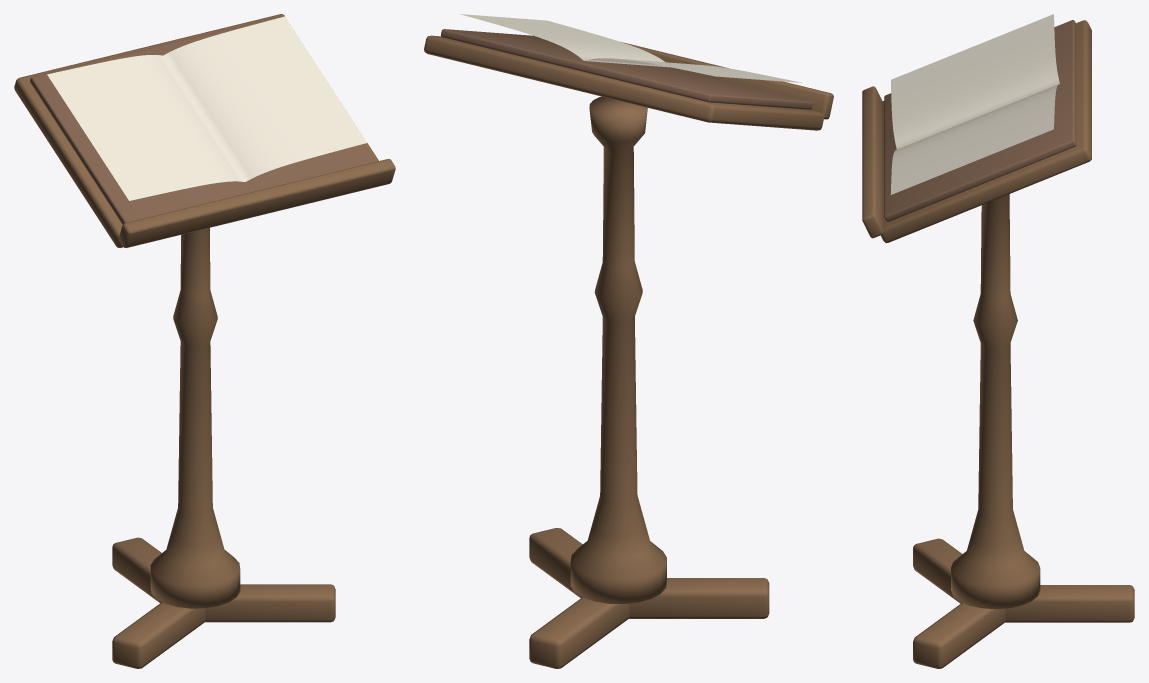
The model's file is ledger_stand.glb.
3 views of the same model, side by side, from view 1: azimuth 30°, elevation 25°; view 2: azimuth 150°, elevation 25°; view 3: azimuth 270°, elevation 25° (orthographic). The views are drawn at different scales.
Visible parts, largest first — view 1: pages, column, boards, ledge, foot2, desk, foot1, foot0; view 2: column, desk, boards, foot1, pages, foot0, foot2, ledge; view 3: pages, column, boards, desk, foot0, foot2, ledge, foot1.
Boxes of the visible parts, left/top/right/bottom form: pages: left=47, top=16, right=366, bottom=200; column: left=150, top=228, right=240, bottom=608; boards: left=30, top=16, right=375, bottom=224; ledge: left=119, top=159, right=395, bottom=247; foot2: left=205, top=584, right=335, bottom=622; desk: left=14, top=14, right=378, bottom=247; foot1: left=112, top=602, right=205, bottom=668; foot0: left=112, top=537, right=161, bottom=602; column: left=570, top=96, right=666, bottom=603; desk: left=424, top=35, right=823, bottom=130; boards: left=441, top=29, right=812, bottom=109; foot1: left=629, top=578, right=769, bottom=618; pages: left=460, top=14, right=801, bottom=82; foot0: left=529, top=597, right=629, bottom=668; foot2: left=529, top=528, right=582, bottom=597; ledge: left=621, top=42, right=833, bottom=119; pages: left=890, top=14, right=1059, bottom=194; column: left=951, top=194, right=1040, bottom=609; boards: left=884, top=20, right=1076, bottom=221; desk: left=881, top=20, right=1091, bottom=243; foot0: left=1005, top=585, right=1134, bottom=622; foot2: left=913, top=602, right=1005, bottom=668; ledge: left=862, top=86, right=882, bottom=238; foot1: left=913, top=538, right=962, bottom=603.
Bounding box in the file's own units: 0.62 × 1.21 × 0.5484.
